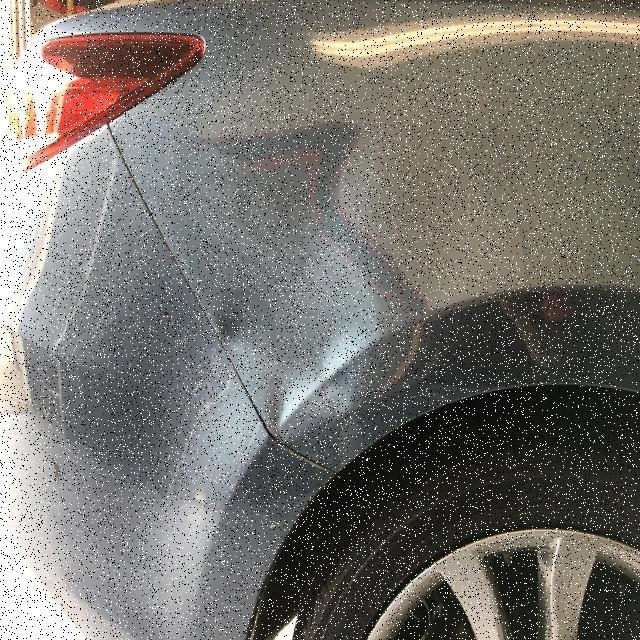quaterpanel-dent: (138, 0, 640, 597)
